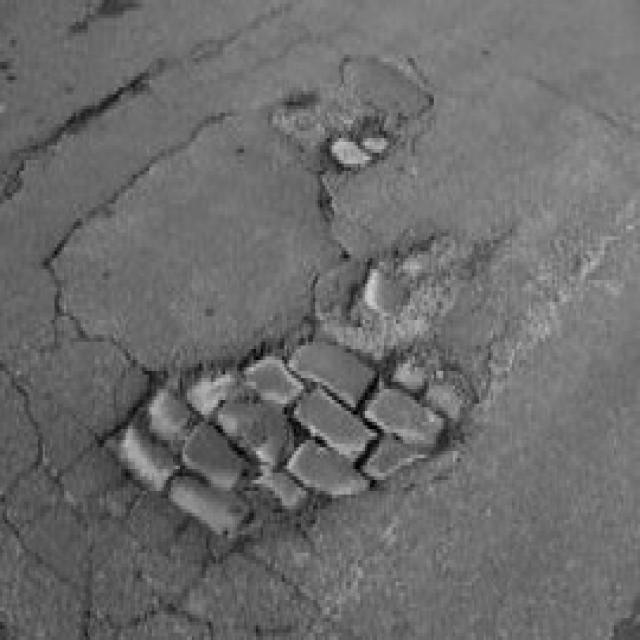road-pothole: (84, 232, 547, 568), (269, 43, 442, 237)
